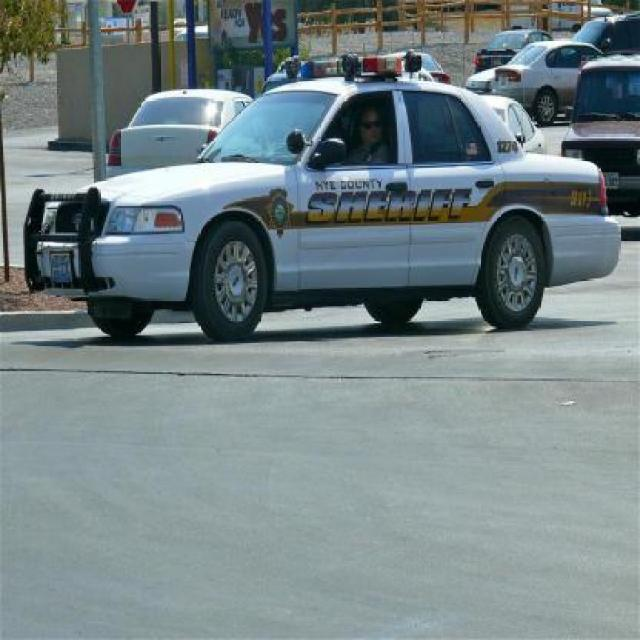License-Plates: (43, 244, 81, 287)
